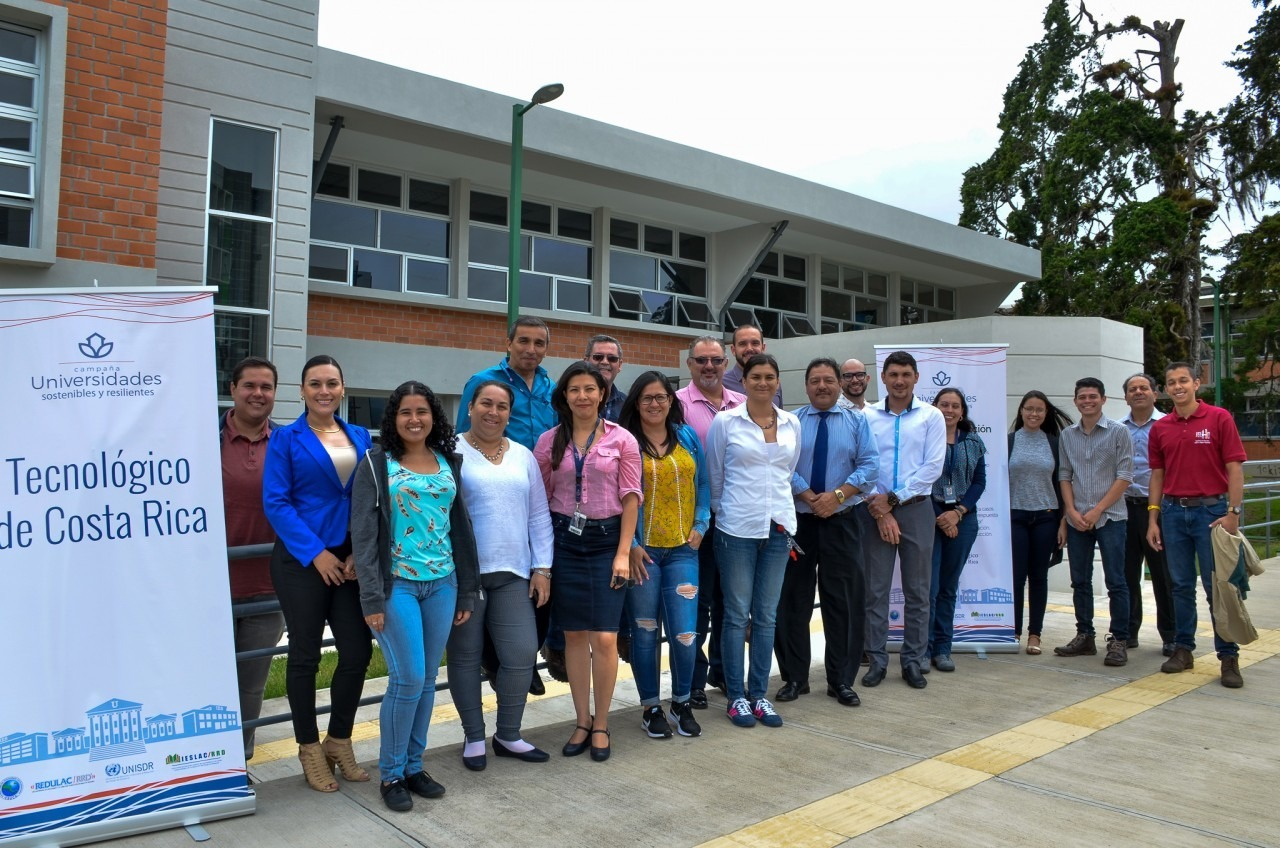person: (861, 323, 952, 560), (285, 343, 385, 516), (365, 376, 461, 540), (465, 329, 588, 437), (552, 376, 651, 507), (713, 350, 798, 487), (1057, 372, 1124, 538), (624, 376, 701, 497), (464, 382, 533, 512), (1163, 344, 1213, 445)
